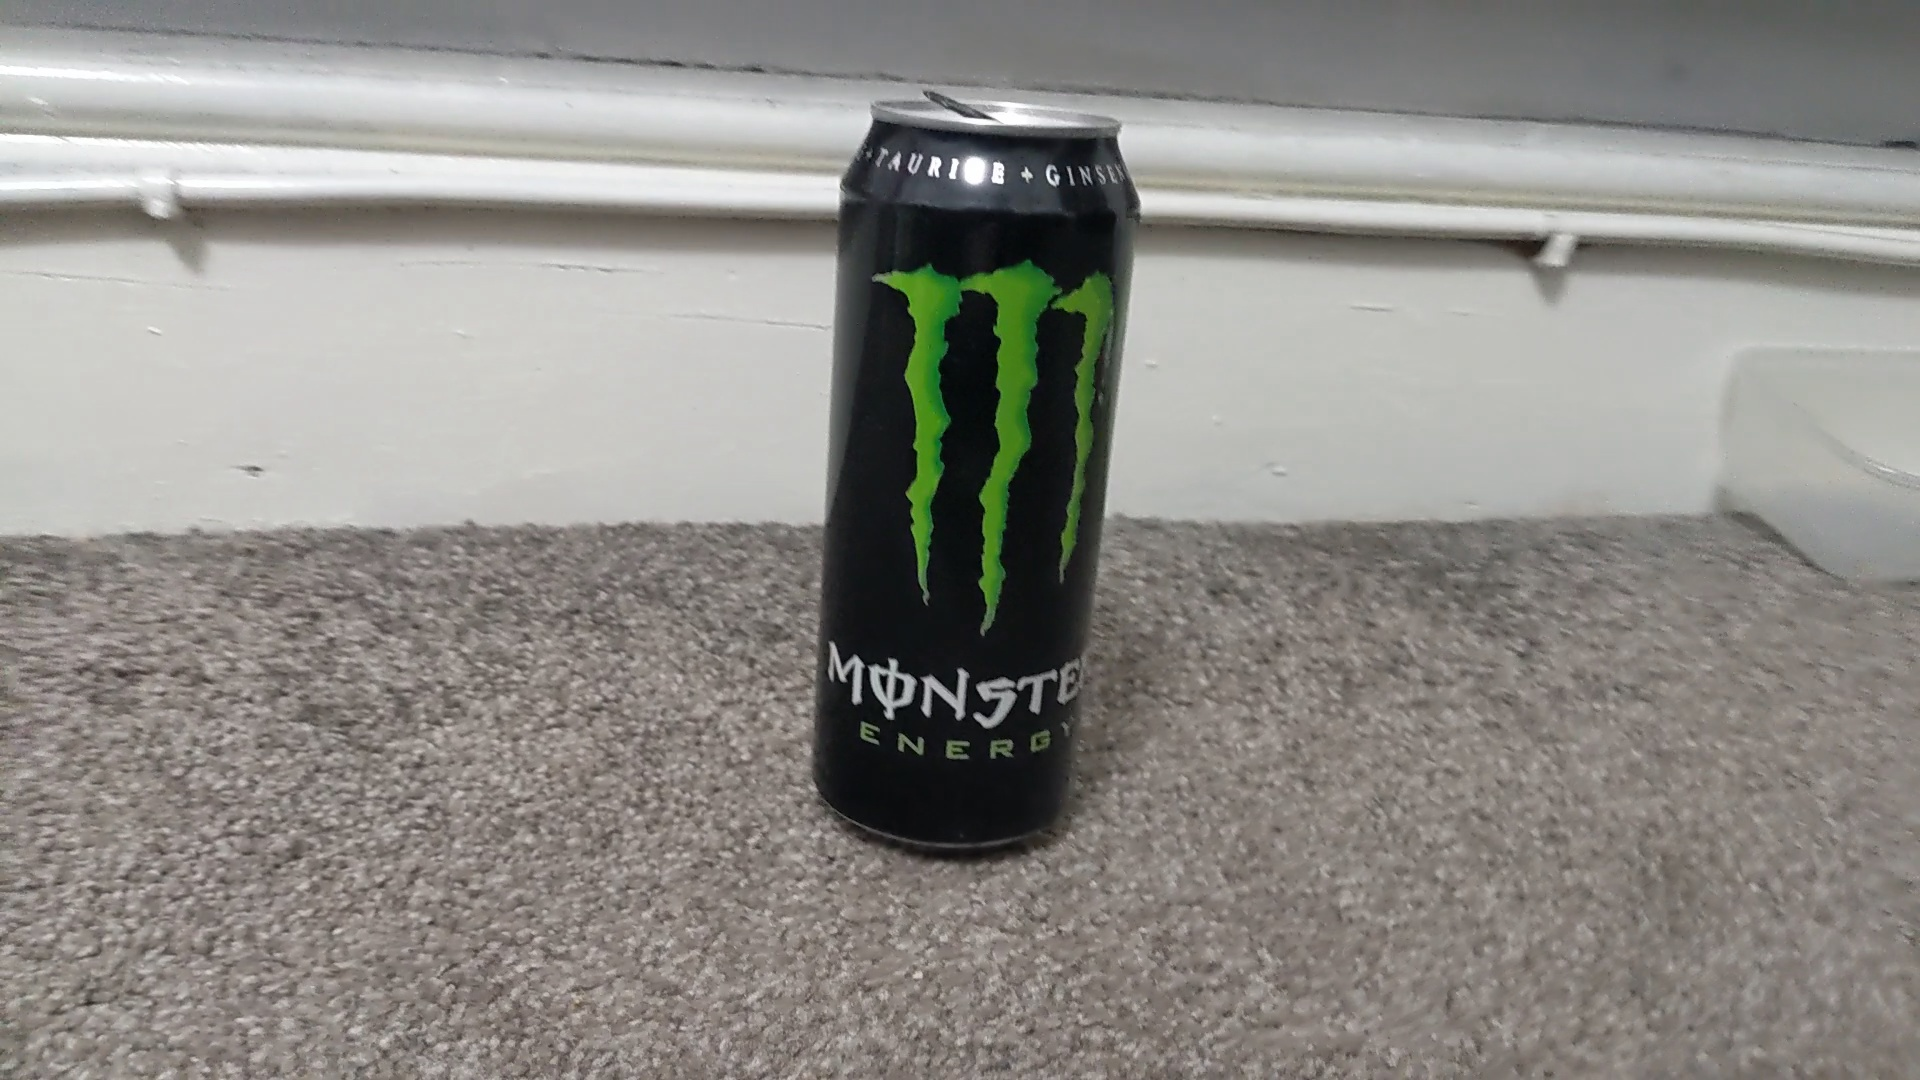monster-original: (812, 100, 1145, 849)
